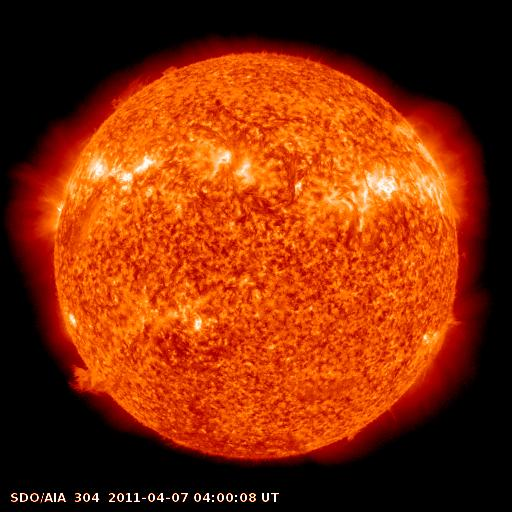prominence: (104, 59, 186, 113), (59, 352, 120, 404), (434, 299, 473, 340), (335, 420, 372, 449)
